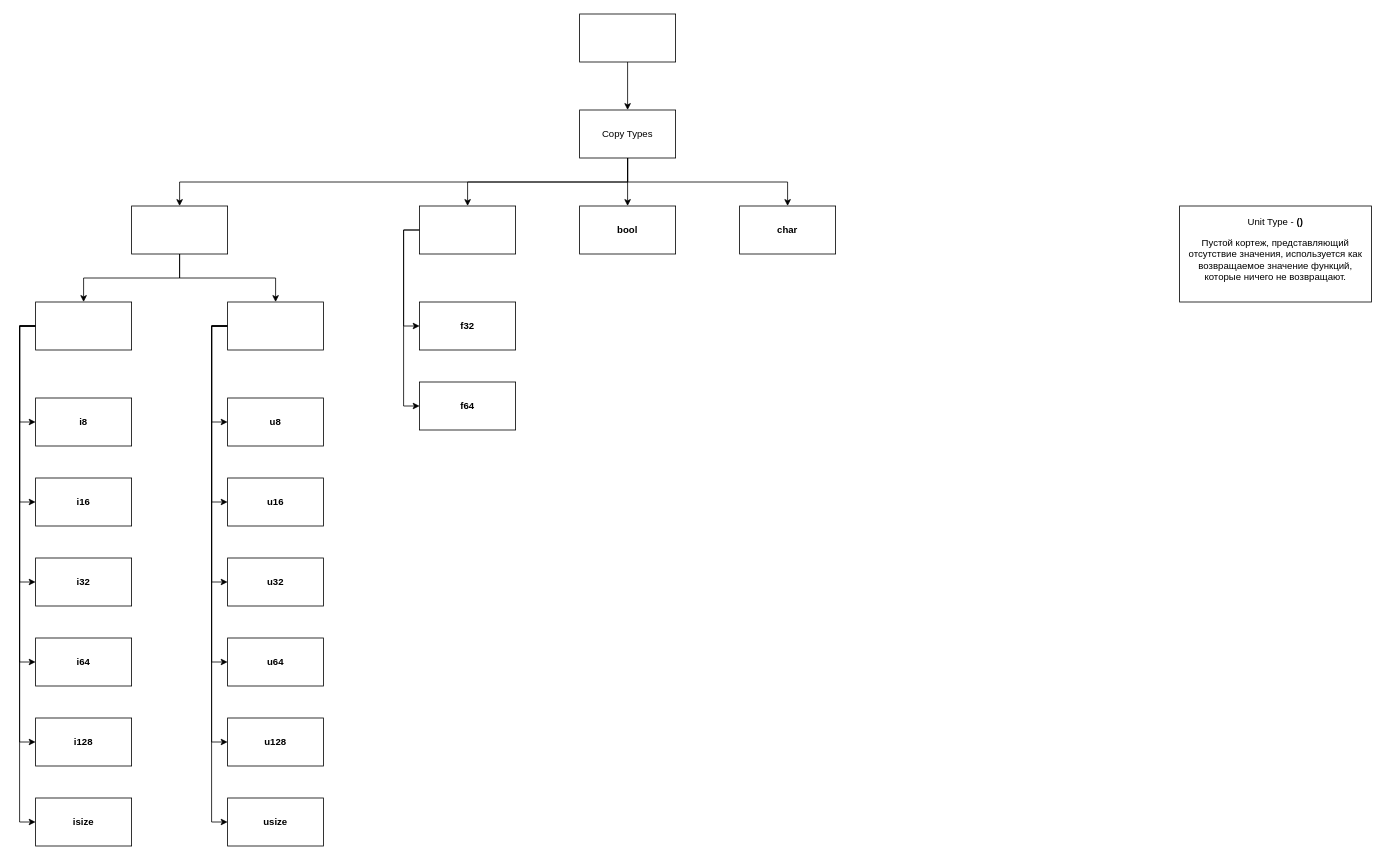
The diagram is 1386 pixels wide and 860 high, and some of its shapes have lost their labels. The centre of each missing label's shape, as x and y in pixels:
Floats: pixel 467 229
Integers: pixel 179 229
Signed: pixel 83 325
Types: pixel 627 37
Unsigned: pixel 275 325
